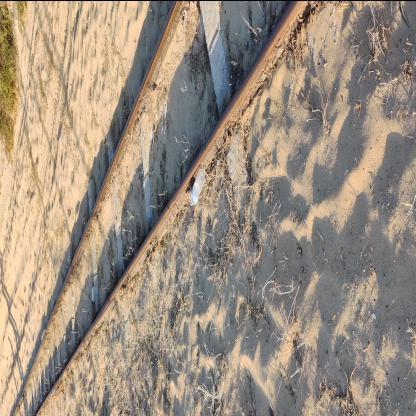plastik: (191, 169, 207, 207)
